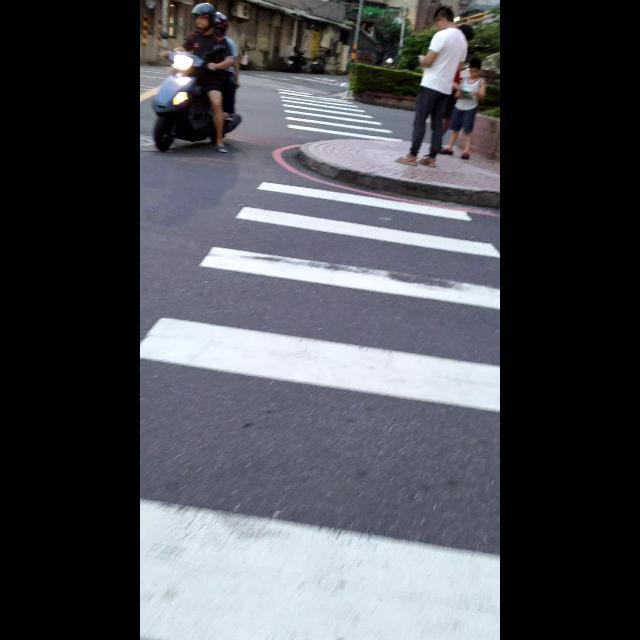sidewalk: (141, 181, 498, 640), (276, 86, 401, 137)
